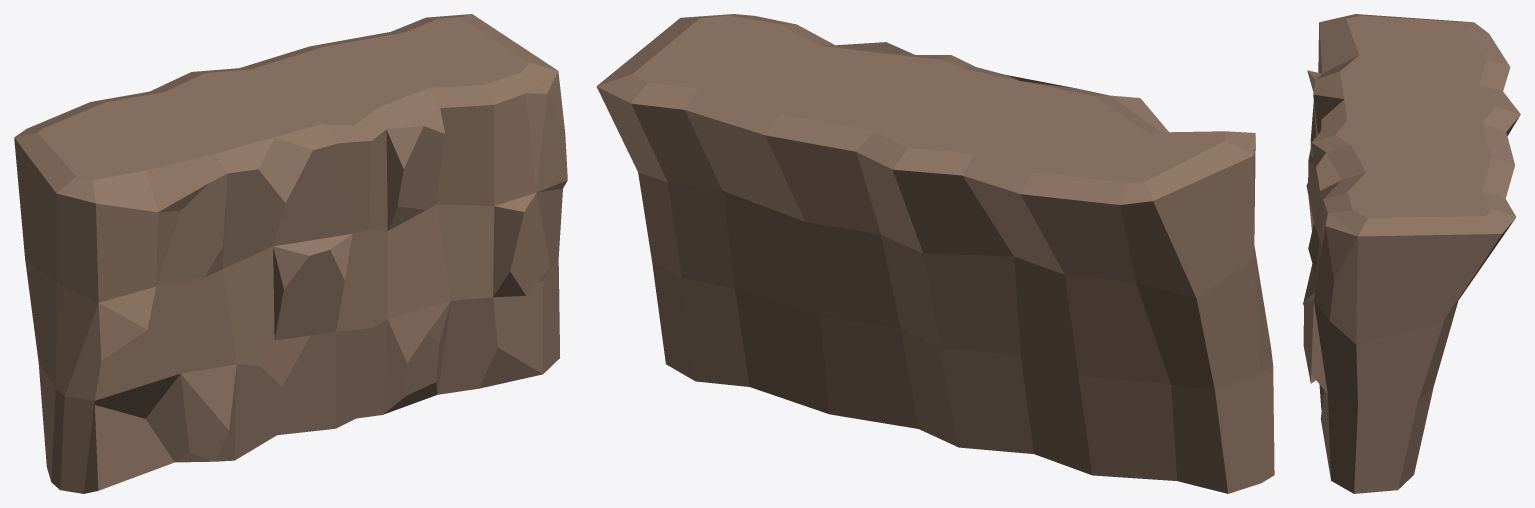
Rendered from rock_wall (1).fbx.
3 renders of one model, left to right at view 1: azimuth 30°, elevation 25°; view 2: azimuth 150°, elevation 25°; view 3: azimuth 270°, elevation 25°, orthographic. The views are drawn at different scales.
Parts seen in each view (by area): view 1: wall detail 3; view 2: wall detail 3; view 3: wall detail 3.
Part boxes in pixels (left/top/right/bottom): wall detail 3: left=14, top=14, right=567, bottom=493; wall detail 3: left=596, top=14, right=1274, bottom=493; wall detail 3: left=1303, top=14, right=1520, bottom=493.
Size of the model in its own units: 272 by 152 by 111.
